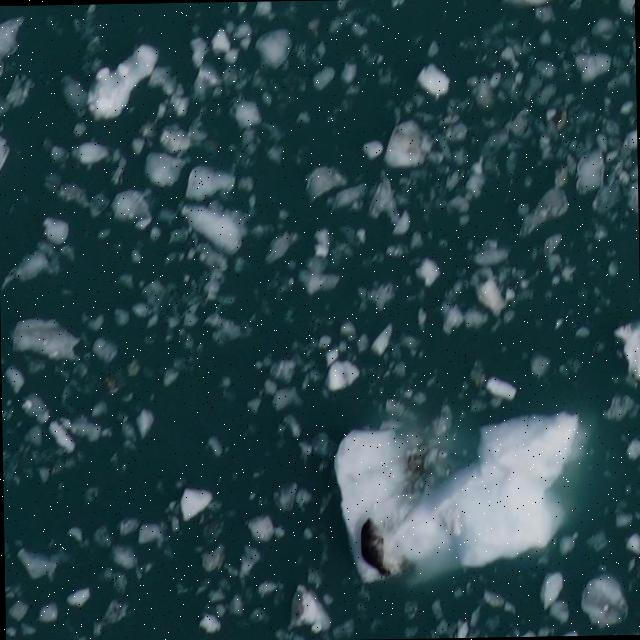seal: (355, 513, 390, 578)
